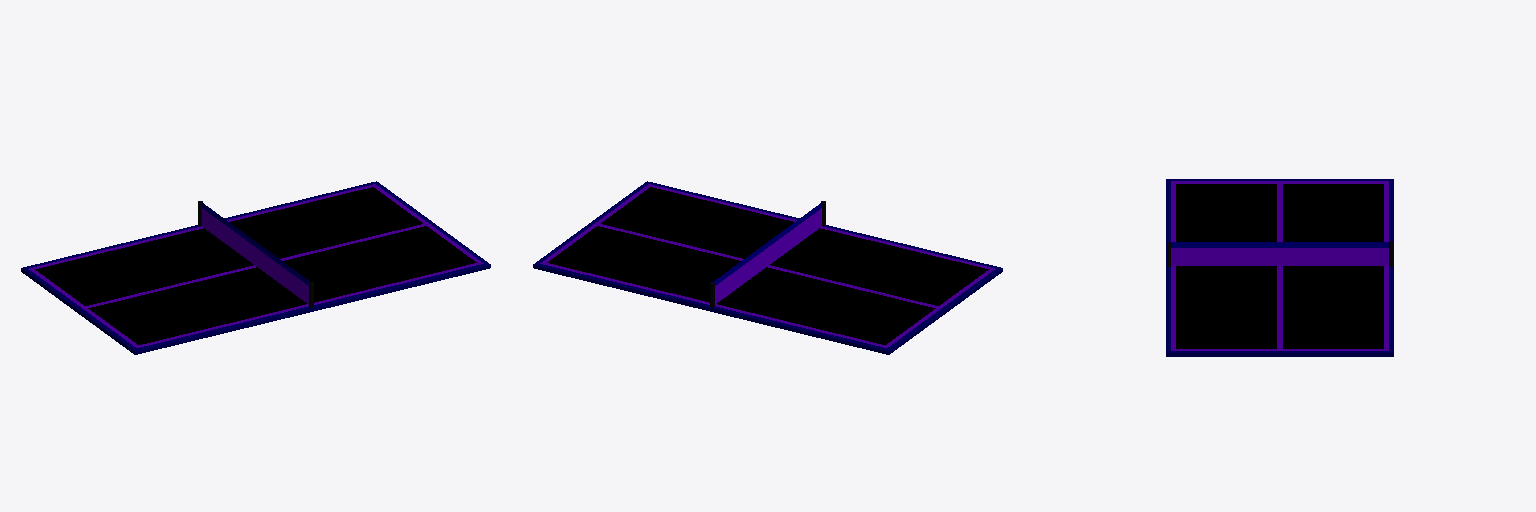
File: table6.obj
The picture shows the model from 3 angles: view 1: azimuth 30°, elevation 25°; view 2: azimuth 150°, elevation 25°; view 3: azimuth 270°, elevation 25°; orthographic projection.
Parts seen in each view (by area): view 1: Box001_Untitled.003, Plane001_Untitled.015; view 2: Box001_Untitled.003, Plane001_Untitled.015; view 3: Box001_Untitled.003, Plane001_Untitled.015.
Boxes of the visible parts, <box> form: Box001_Untitled.003: <box>21,181,490,354</box>; Plane001_Untitled.015: <box>200,201,311,304</box>; Box001_Untitled.003: <box>533,181,1002,354</box>; Plane001_Untitled.015: <box>712,201,823,304</box>; Box001_Untitled.003: <box>1166,179,1393,356</box>; Plane001_Untitled.015: <box>1169,242,1388,265</box>.
Size of the model in its own units: 2.74 by 0.2092 by 1.52.